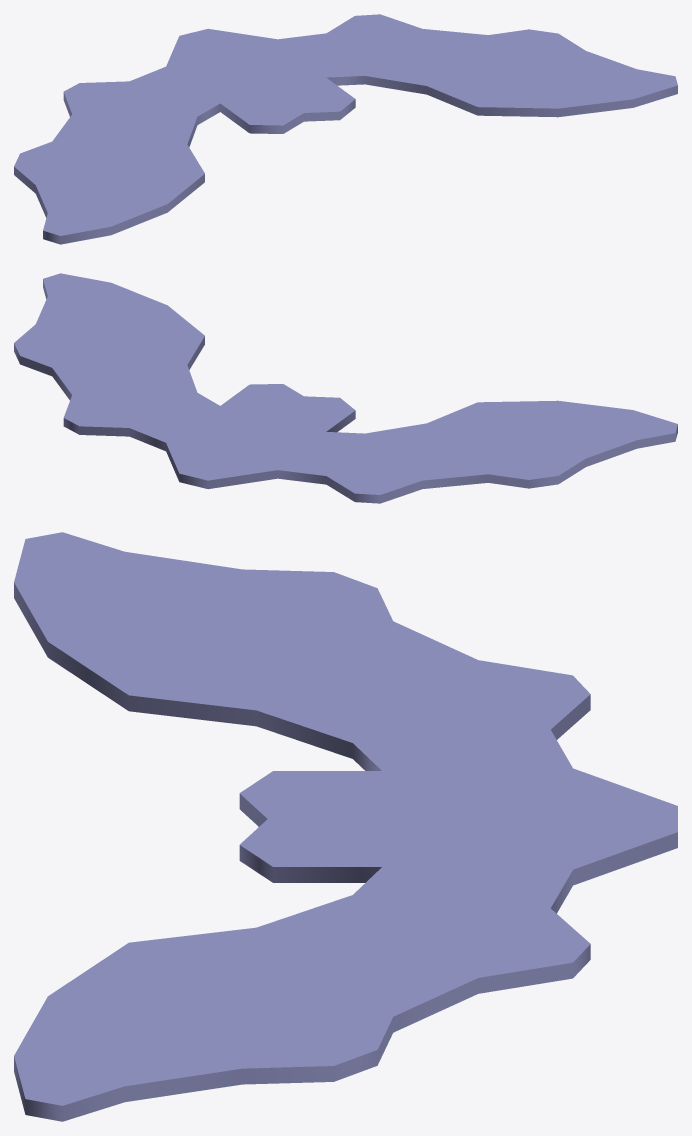
Rendered from carpet-bat.glb.
The picture shows the model from 3 angles, top to bottom: view 1: azimuth 30°, elevation 25°; view 2: azimuth 150°, elevation 25°; view 3: azimuth 270°, elevation 25°; orthographic projection. The views are drawn at different scales.
Parts seen in each view (by area): view 1: carpet-bat; view 2: carpet-bat; view 3: carpet-bat.
Part boxes in pixels (left/top/right/bottom): carpet-bat: left=14, top=14, right=677, bottom=244; carpet-bat: left=14, top=273, right=677, bottom=503; carpet-bat: left=14, top=532, right=677, bottom=1121.
Size of the model in its own units: 1.93 by 0.025 by 0.9447.
